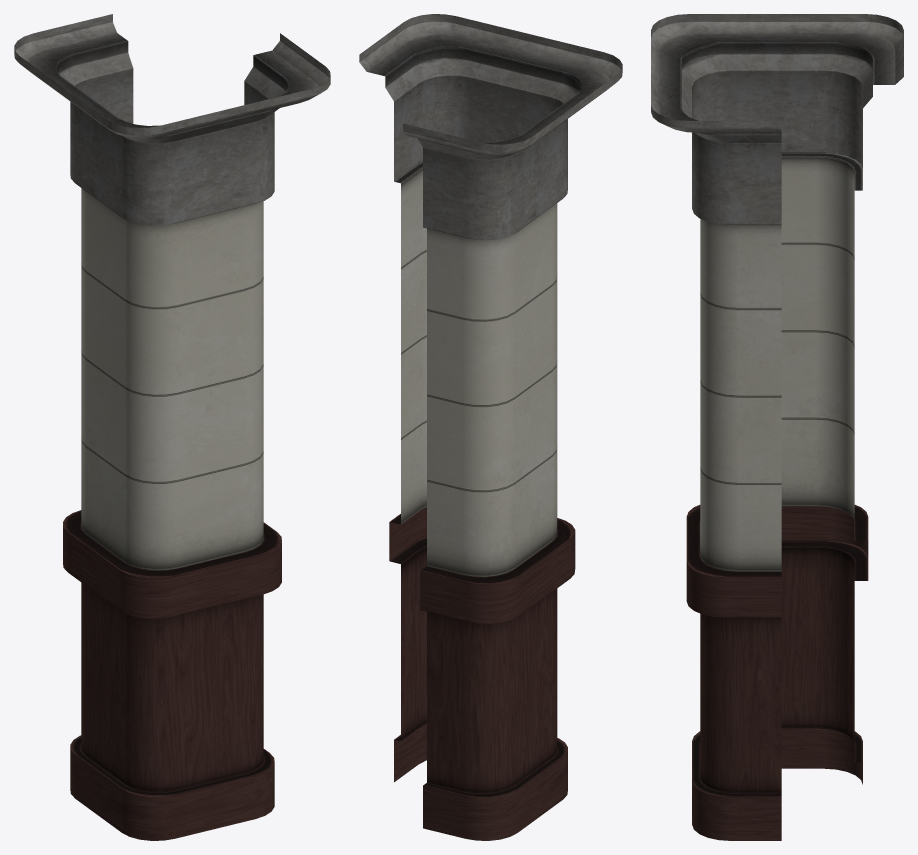
File: Wall 6 Corner Pillar .fbx
The picture shows the model from 3 angles, left to right: view 1: azimuth 30°, elevation 25°; view 2: azimuth 150°, elevation 25°; view 3: azimuth 270°, elevation 25°; orthographic projection. The views are drawn at different scales.
Visible parts, largest first — view 1: Wall_6_Corner_Pillar; view 2: Wall_6_Corner_Pillar; view 3: Wall_6_Corner_Pillar.
Boxes of the visible parts, x1,y1,x2,y2 form: Wall_6_Corner_Pillar: [14, 14, 330, 840]; Wall_6_Corner_Pillar: [359, 14, 622, 840]; Wall_6_Corner_Pillar: [651, 14, 903, 840].
Bounding box in the file's own units: 93.24 × 300 × 93.24.
